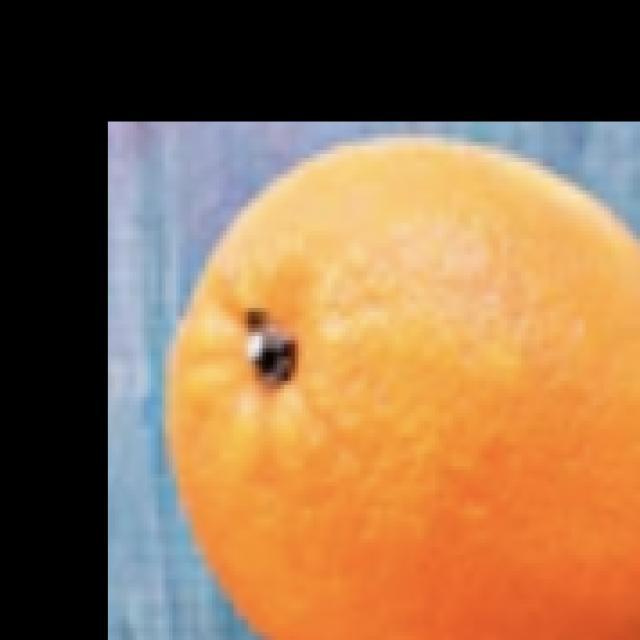Orange: (164, 134, 639, 639)
